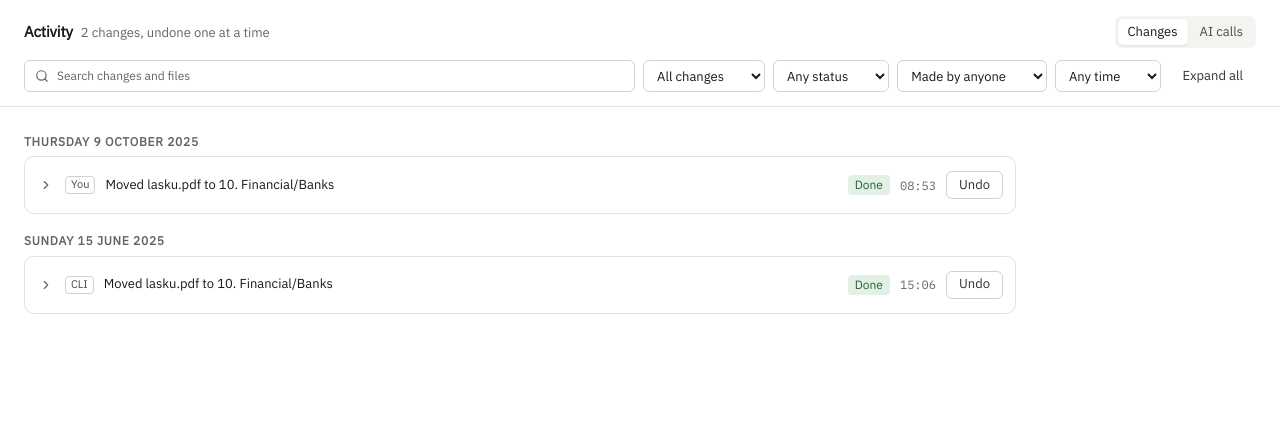
Test: Activity › puts the search and Expand all in the filter row, not in the header
Expected: the element named "Batch b1" is shown, left=37, top=171, right=1003, bottom=199
Expected: the search field named "Search the changes" is shown, left=57, top=62, right=624, bottom=90
Step 1. Click the button "Expand all" → point(1213, 76), box left=1169, top=60, right=1256, bottom=92
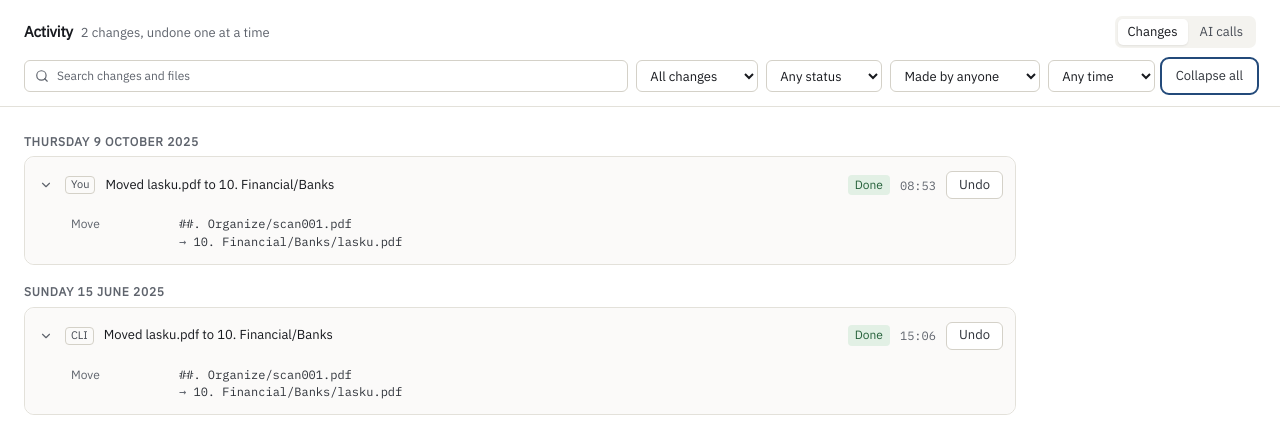
Expected: the number of buttons named "Hide the operations" is 2, left=37, top=176, right=55, bottom=194; left=37, top=327, right=55, bottom=345
Now the button "Collapse all" is shown, box left=1163, top=60, right=1256, bottom=92
